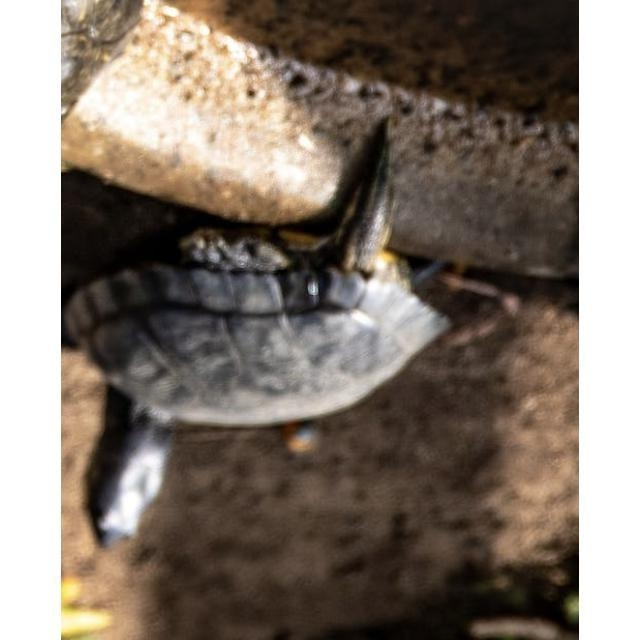turtle: (68, 119, 458, 548)
